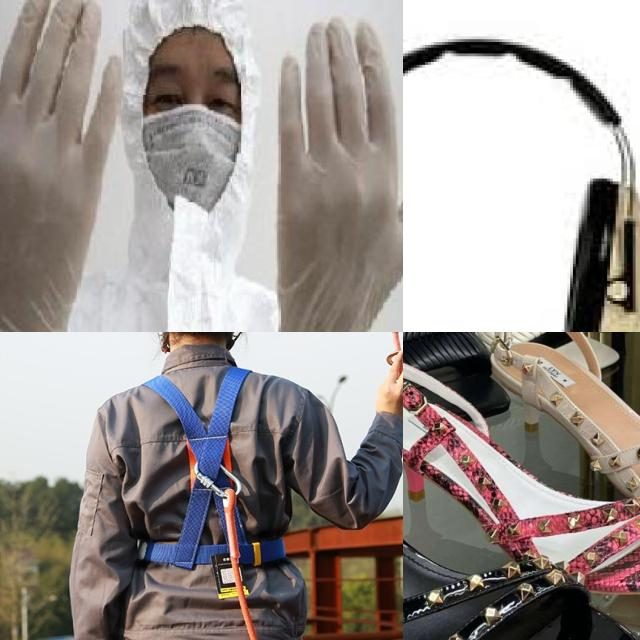Ear-protection: (403, 25, 640, 332)
Harness: (119, 363, 298, 634)
No_Glasses: (141, 69, 250, 125)
Sandals: (403, 340, 640, 618), (403, 374, 640, 640), (481, 332, 640, 549)
face_nomask: (137, 27, 249, 240)
hand_glove: (272, 10, 403, 332), (0, 0, 123, 332)
head_nohelmet: (126, 0, 257, 68)
person: (0, 0, 403, 332)
